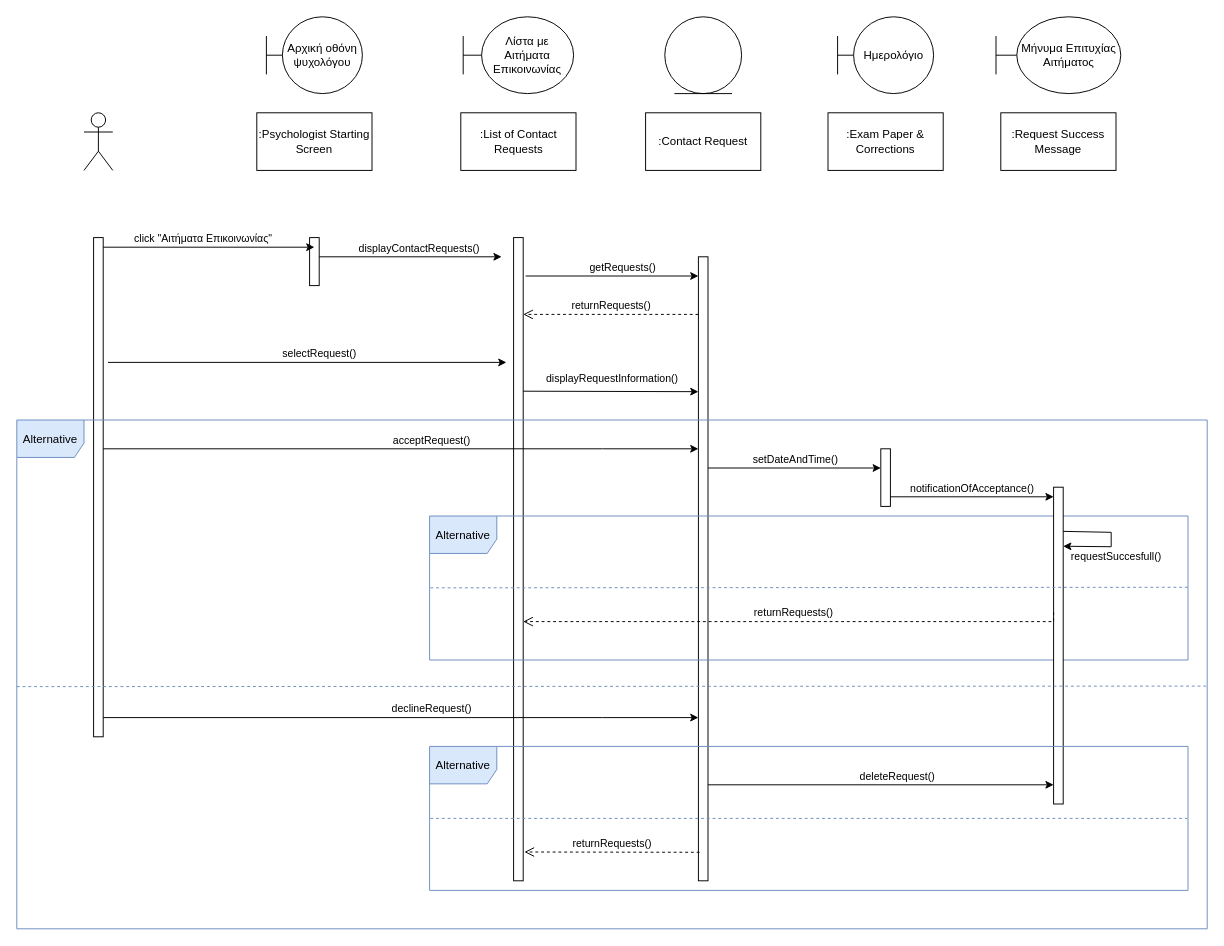
Image size: 1224x946. Some labels were removed from this diagram. The centre of each missing label's shape, as x and y in pixels:
Αίτημα Επικοινωνίας: (703,55)
Ψυχολόγος: (98,141)
